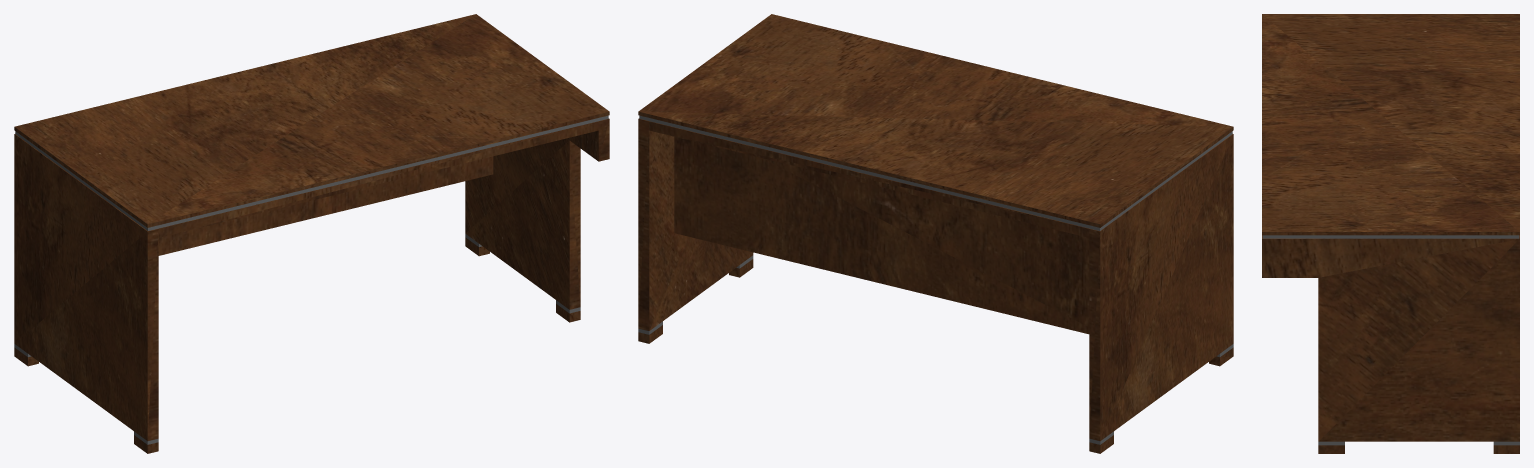
File: desk.glb
The picture shows the model from 3 angles, left to right: view 1: azimuth 30°, elevation 25°; view 2: azimuth 150°, elevation 25°; view 3: azimuth 270°, elevation 25°; orthographic projection. The views are drawn at different scales.
Parts seen in each view (by area): view 1: desk; view 2: desk; view 3: desk.
Boxes of the visible parts, left/top/right/bottom form: desk: left=14, top=14, right=609, bottom=453; desk: left=638, top=14, right=1233, bottom=453; desk: left=1262, top=14, right=1519, bottom=453.
Size of the model in its own units: 160 by 76 by 80.
3 materials, 2 textured.
